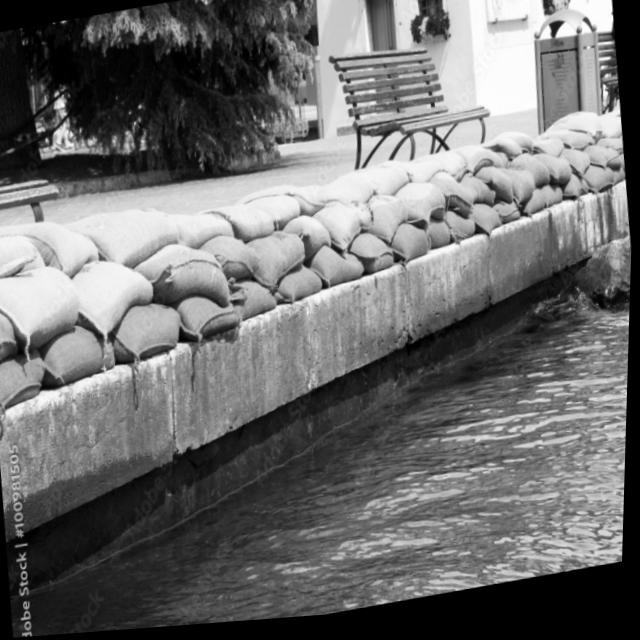sack: (134, 235, 236, 324), (65, 201, 183, 277), (71, 251, 160, 344), (0, 211, 103, 291), (0, 260, 85, 354), (40, 321, 118, 388), (110, 300, 185, 366), (245, 230, 309, 297), (327, 166, 413, 213), (313, 199, 376, 260), (199, 231, 262, 291), (164, 204, 235, 256), (208, 199, 277, 251), (176, 292, 242, 346), (309, 243, 369, 295), (0, 349, 50, 410), (244, 187, 303, 237), (534, 117, 604, 159), (283, 214, 335, 269), (394, 183, 448, 232), (430, 174, 477, 229), (365, 196, 409, 252), (230, 279, 279, 328), (0, 228, 47, 278), (274, 264, 327, 308), (349, 233, 397, 281), (405, 153, 466, 189), (390, 224, 432, 270), (476, 166, 517, 213), (514, 155, 552, 200), (458, 173, 497, 216), (536, 155, 574, 194), (0, 303, 22, 369), (464, 145, 507, 178), (582, 149, 622, 184), (521, 190, 565, 221), (290, 185, 328, 220), (444, 212, 478, 251), (498, 134, 536, 167), (581, 169, 616, 204), (471, 205, 503, 243), (558, 151, 592, 186), (510, 171, 538, 213), (425, 221, 454, 256), (562, 179, 592, 211), (493, 203, 522, 233), (601, 115, 623, 148)
